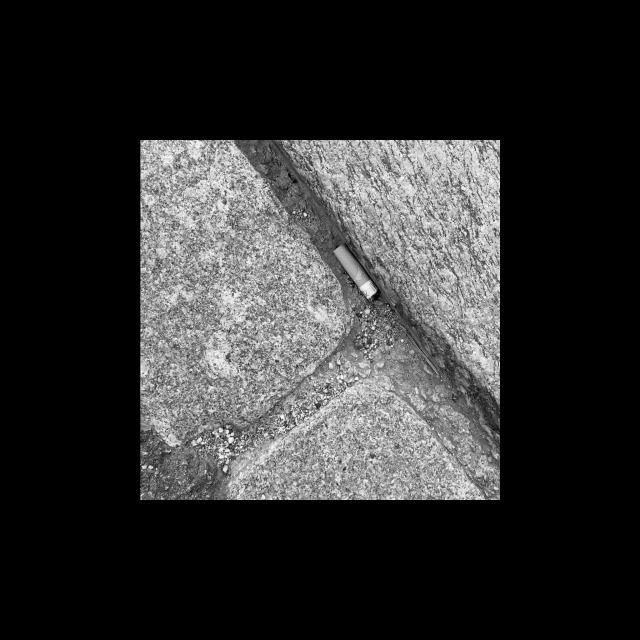cigarette: (332, 243, 380, 302)
